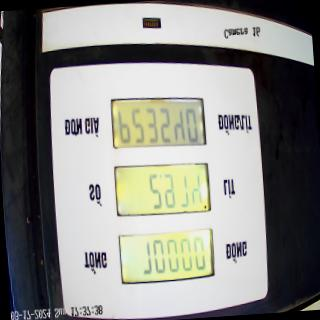screen: (106, 91, 218, 288)
